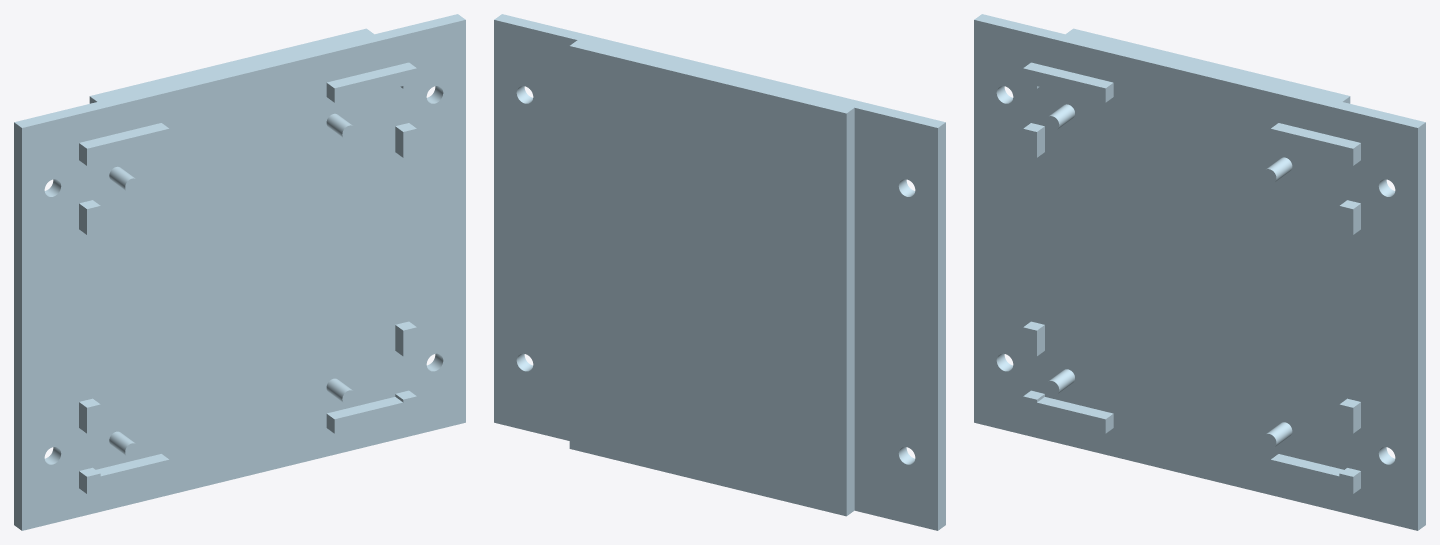
3 views of the same model, side by side, from view 1: azimuth 30°, elevation 25°; view 2: azimuth 150°, elevation 25°; view 3: azimuth 330°, elevation 25° (orthographic).
Visible parts, largest first — view 1: mesh12435, mesh12445, mesh12436, mesh12491, mesh12450, mesh12467, mesh12479, mesh12478, mesh12452, mesh12466, mesh12490; view 2: mesh12448, mesh12439, mesh12446, mesh12445, mesh12440, mesh12436; view 3: mesh12435, mesh12445, mesh12441, mesh12467, mesh12479, mesh12491, mesh12450, mesh12452, mesh12478, mesh12490, mesh12466.
Boxes of the visible parts, x1,y1,x2,y2 form: mesh12435: [22, 20, 465, 530]; mesh12445: [14, 14, 465, 127]; mesh12436: [14, 122, 21, 530]; mesh12491: [87, 459, 169, 493]; mesh12450: [87, 128, 169, 165]; mesh12467: [334, 396, 416, 433]; mesh12479: [334, 68, 416, 102]; mesh12478: [327, 62, 416, 88]; mesh12452: [79, 123, 168, 148]; mesh12466: [327, 397, 402, 419]; mesh12490: [96, 454, 168, 476]; mesh12448: [569, 46, 846, 516]; mesh12439: [854, 108, 937, 530]; mesh12446: [494, 20, 577, 440]; mesh12445: [494, 14, 945, 127]; mesh12440: [846, 108, 854, 515]; mesh12436: [938, 122, 945, 530]; mesh12435: [974, 20, 1417, 530]; mesh12445: [974, 14, 1425, 127]; mesh12441: [1418, 122, 1425, 530]; mesh12467: [1270, 460, 1353, 493]; mesh12479: [1270, 129, 1353, 165]; mesh12491: [1023, 396, 1105, 433]; mesh12450: [1023, 68, 1105, 102]; mesh12452: [1023, 62, 1112, 88]; mesh12478: [1271, 123, 1360, 148]; mesh12490: [1037, 397, 1113, 419]; mesh12466: [1271, 454, 1343, 476].
Size of the model in its own units: 0.1614 by 0.14 by 0.02.
